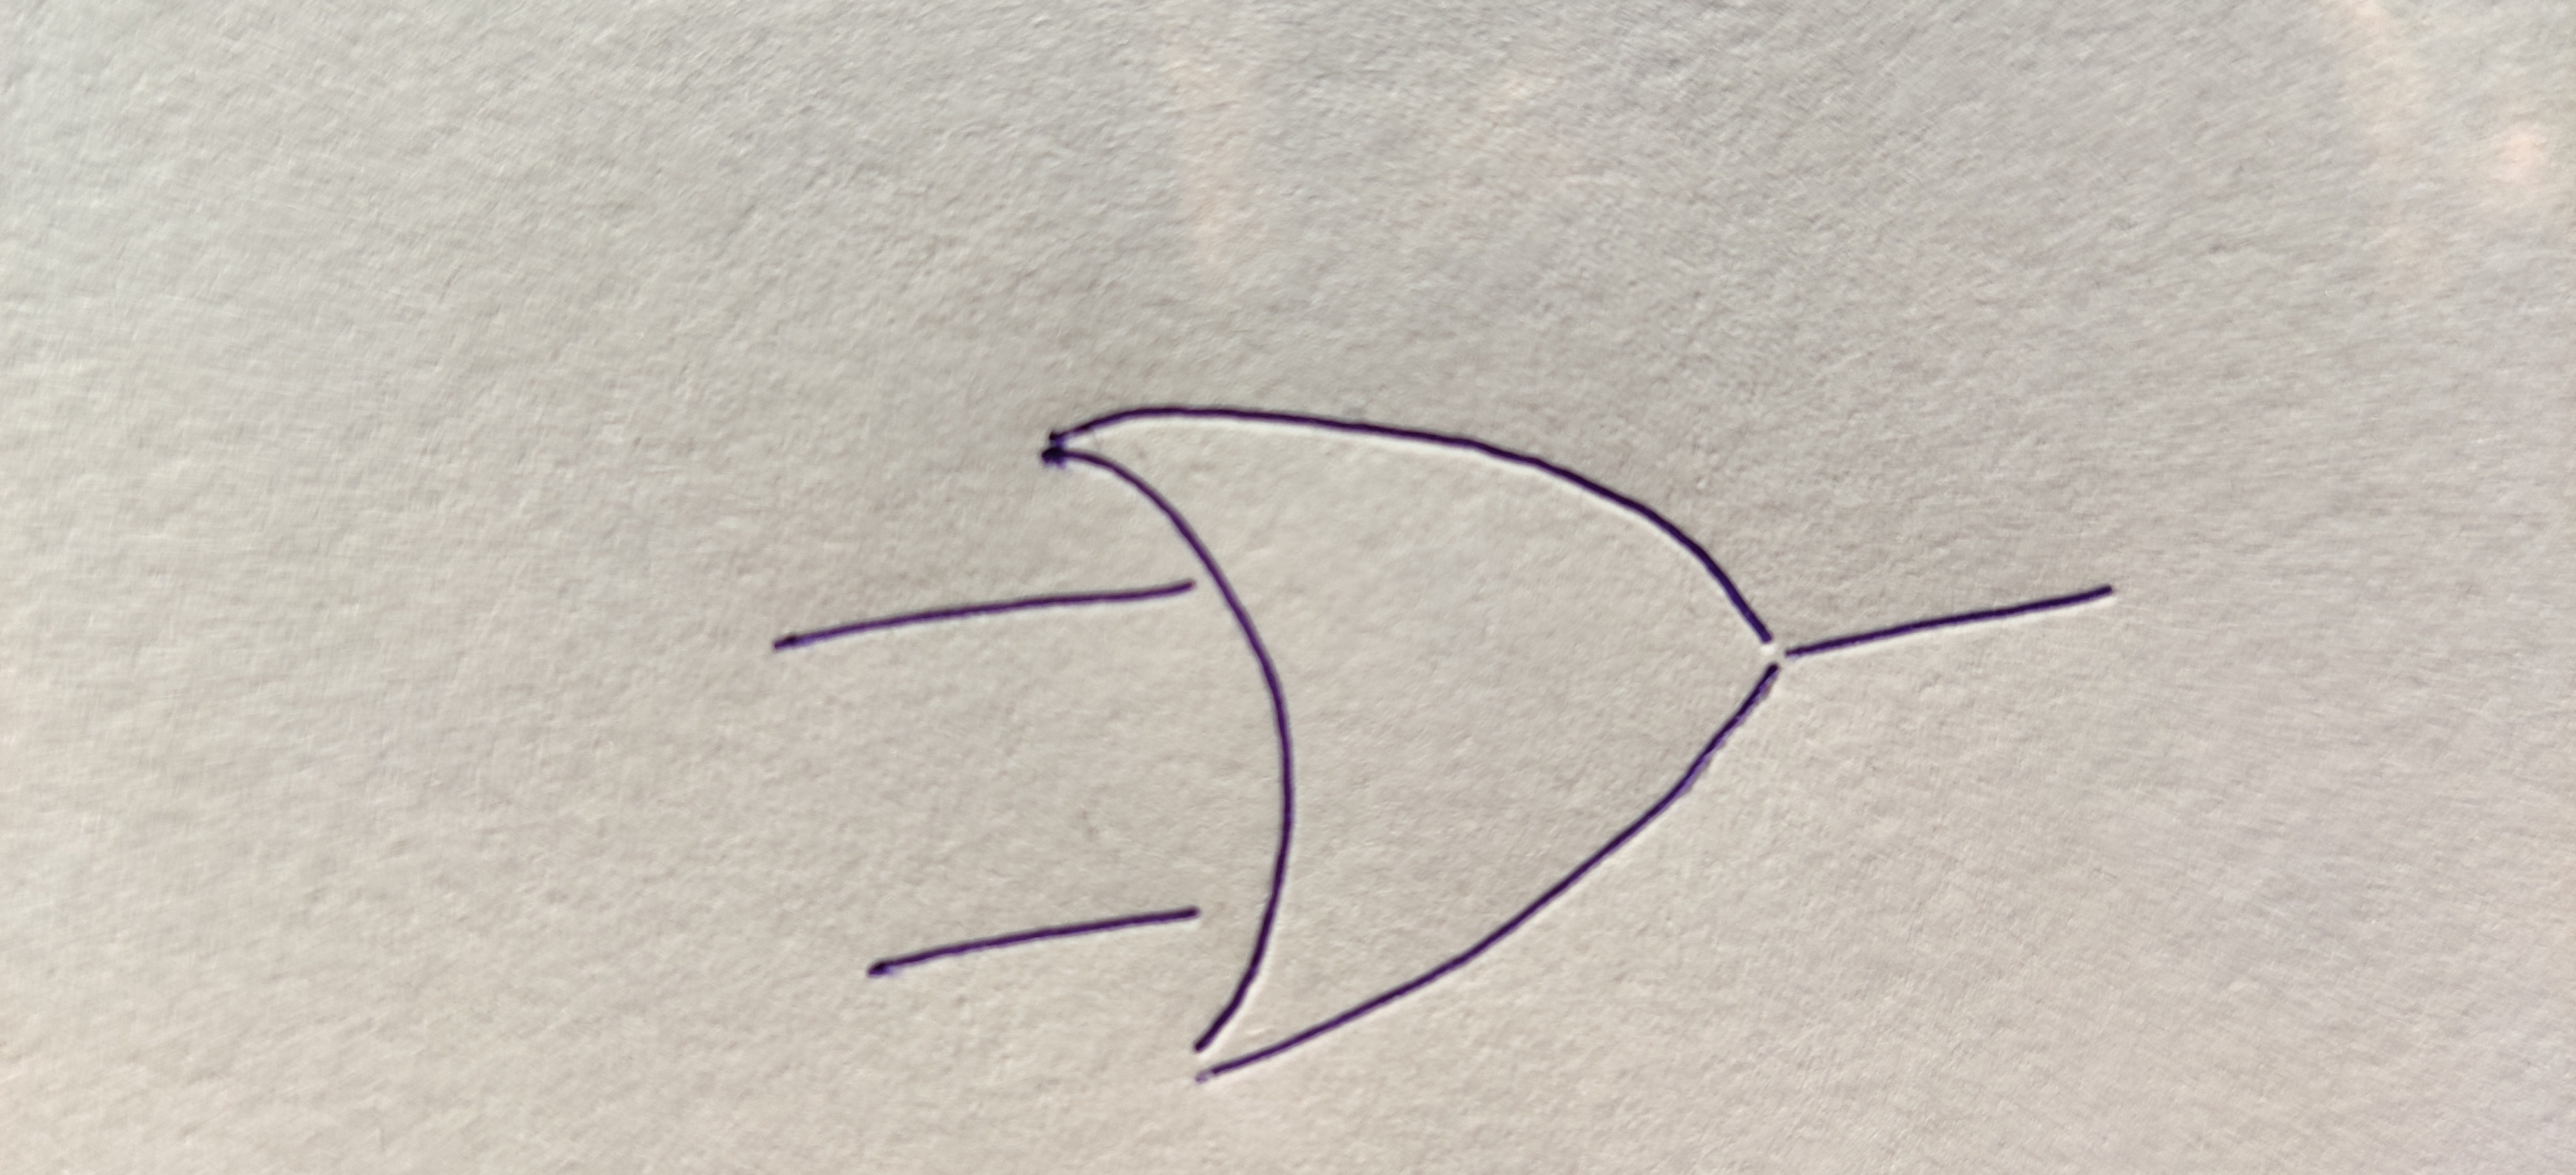or: (1048, 403, 1779, 1075)
